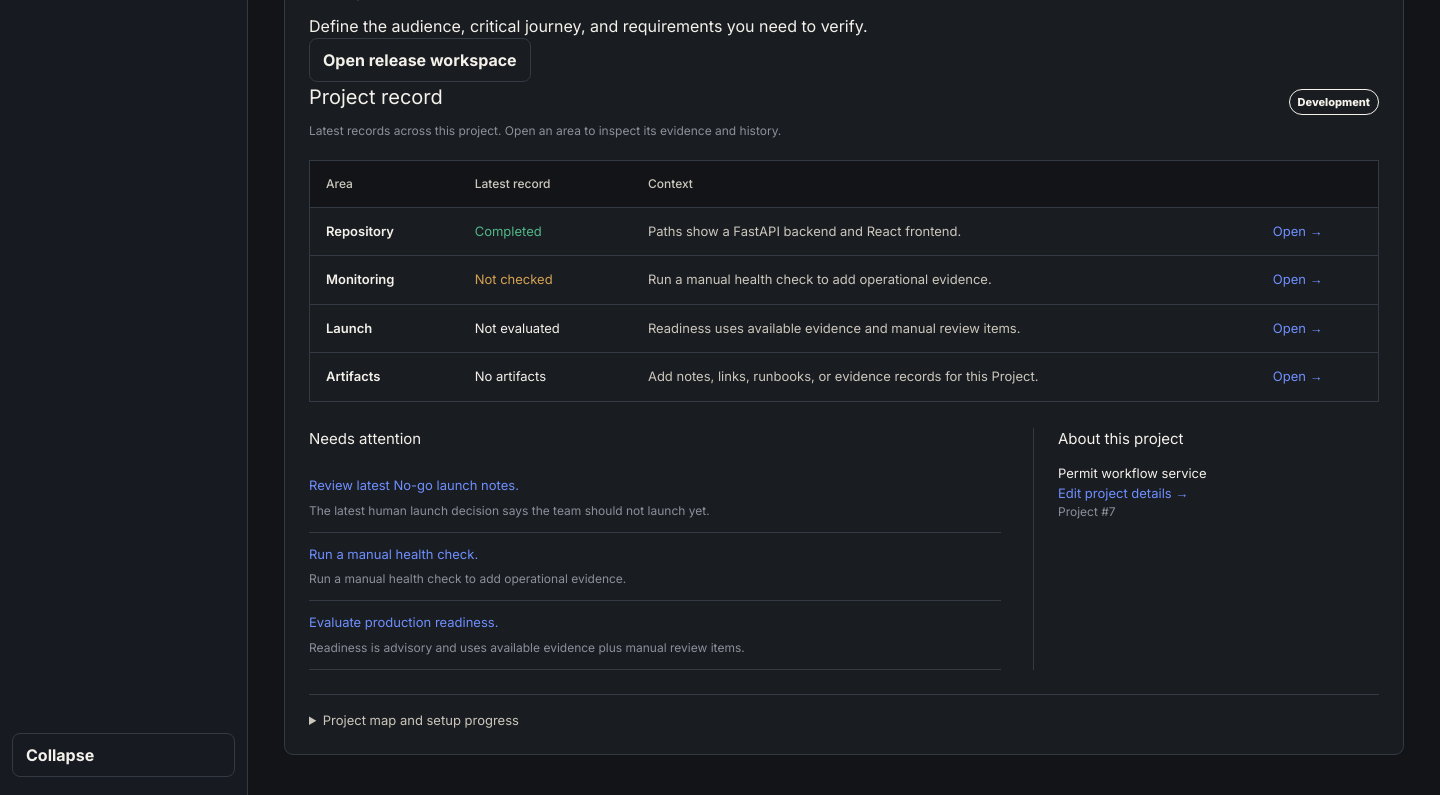
it: Project detail unified command center › prioritizes health checks when production URL exists and no check has run
(page scrolled)
Click the heading "Project map and setup progress".
click(421, 720)  # box [323,712,519,728]
(page scrolled)
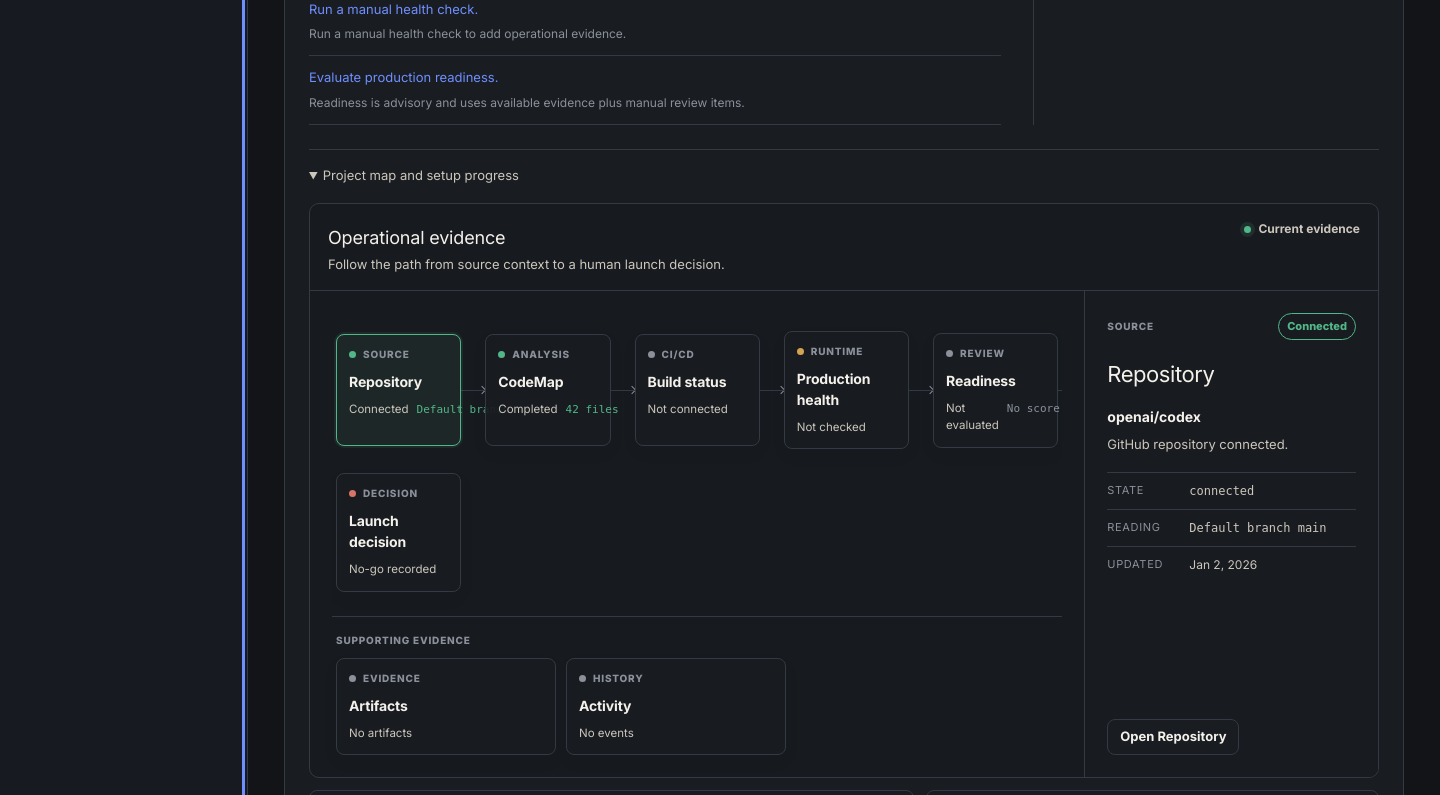
Click the button with aria-label "Inspect Production health: Not checked".
click(846, 390)  # box [784,331,909,449]
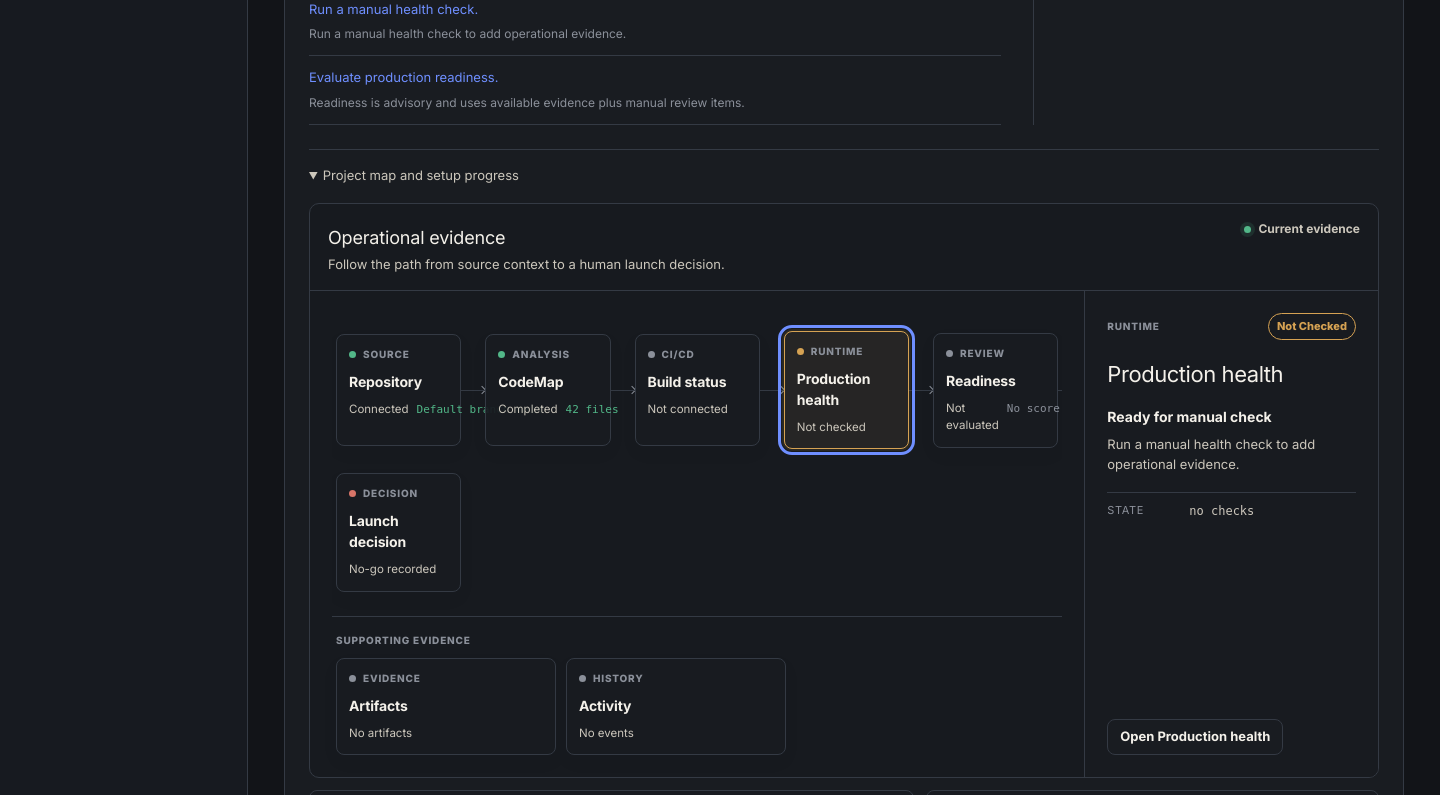
expect the text "Ready for manual check" is shown: met, box [1107,407,1272,427]
